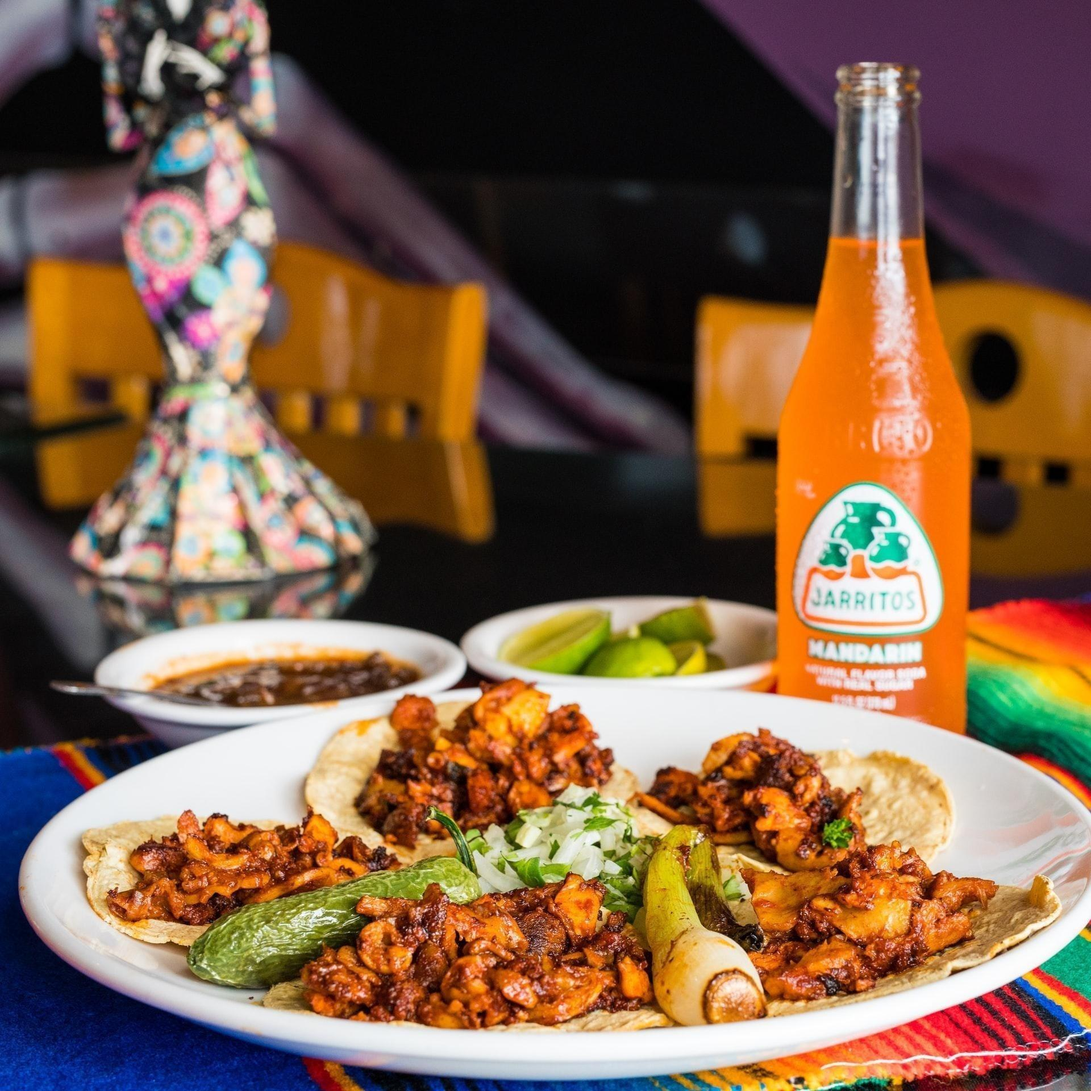bottle-glass: (768, 54, 981, 769)
